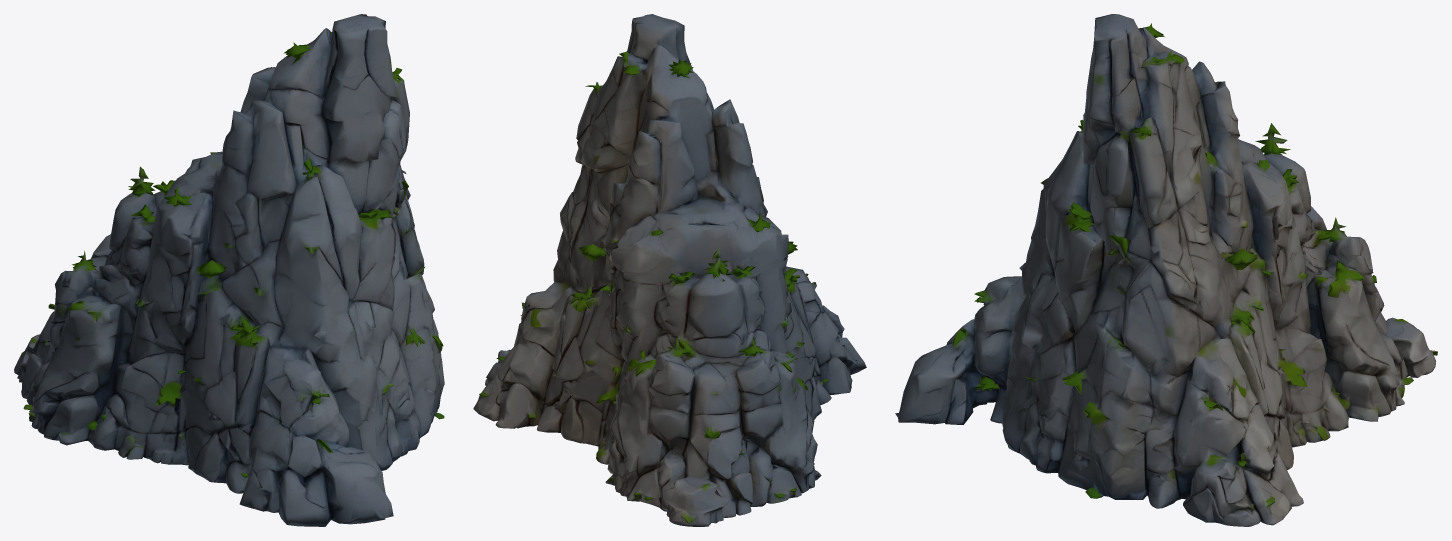
The model's file is mountain.glb.
The picture shows the model from 3 angles, left to right: view 1: azimuth 30°, elevation 25°; view 2: azimuth 150°, elevation 25°; view 3: azimuth 270°, elevation 25°; orthographic projection. The views are drawn at different scales.
Visible parts, largest first — view 1: tripo_node_f905d38d-117a-4aaf-82d3-47fbe3e17d8f; view 2: tripo_node_f905d38d-117a-4aaf-82d3-47fbe3e17d8f; view 3: tripo_node_f905d38d-117a-4aaf-82d3-47fbe3e17d8f.
Boxes of the visible parts, left/top/right/bottom form: tripo_node_f905d38d-117a-4aaf-82d3-47fbe3e17d8f: left=14, top=14, right=444, bottom=526; tripo_node_f905d38d-117a-4aaf-82d3-47fbe3e17d8f: left=473, top=14, right=866, bottom=526; tripo_node_f905d38d-117a-4aaf-82d3-47fbe3e17d8f: left=895, top=14, right=1437, bottom=526.
Bounding box in the file's own units: 0.8609 × 0.8868 × 1.
Materials: 1 (1 with a texture image).
